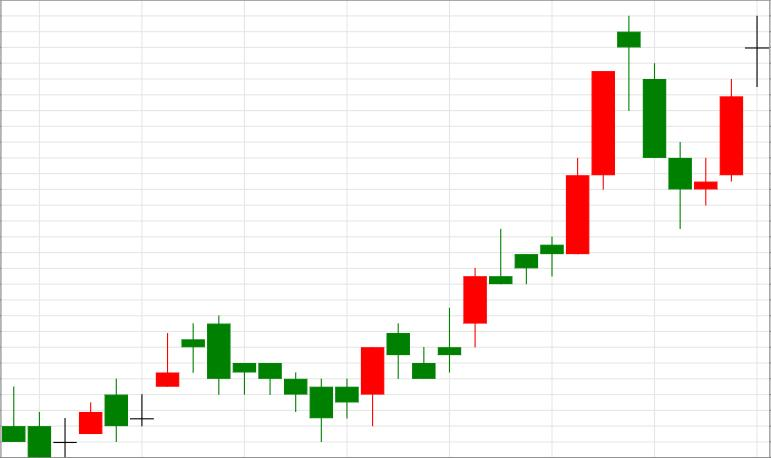evening_star_fall: (464, 17, 666, 347)
